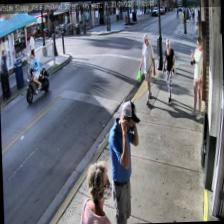person: (106, 99, 143, 224), (78, 158, 113, 224), (186, 36, 204, 119), (138, 33, 155, 105), (161, 38, 176, 103)
